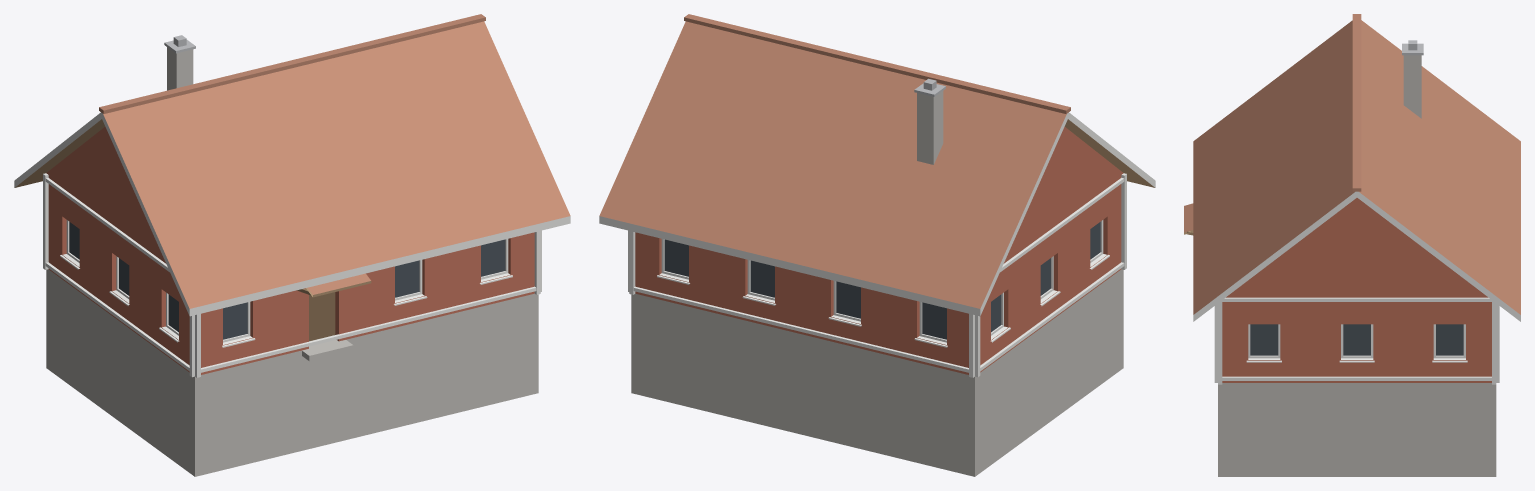
The model's file is nordic_house_1_m.glb.
The picture shows the model from 3 angles, left to right: view 1: azimuth 30°, elevation 25°; view 2: azimuth 150°, elevation 25°; view 3: azimuth 270°, elevation 25°; orthographic projection. The views are drawn at different scales.
Visible parts, largest first — view 1: nordic_house_1_m; view 2: nordic_house_1_m; view 3: nordic_house_1_m.
Part boxes in pixels (x1=…): nordic_house_1_m: x1=14, y1=14, x2=570, y2=476; nordic_house_1_m: x1=599, y1=14, x2=1155, y2=476; nordic_house_1_m: x1=1184, y1=14, x2=1520, y2=476.
Size of the model in its own units: 13.34 by 11.38 by 10.9.
